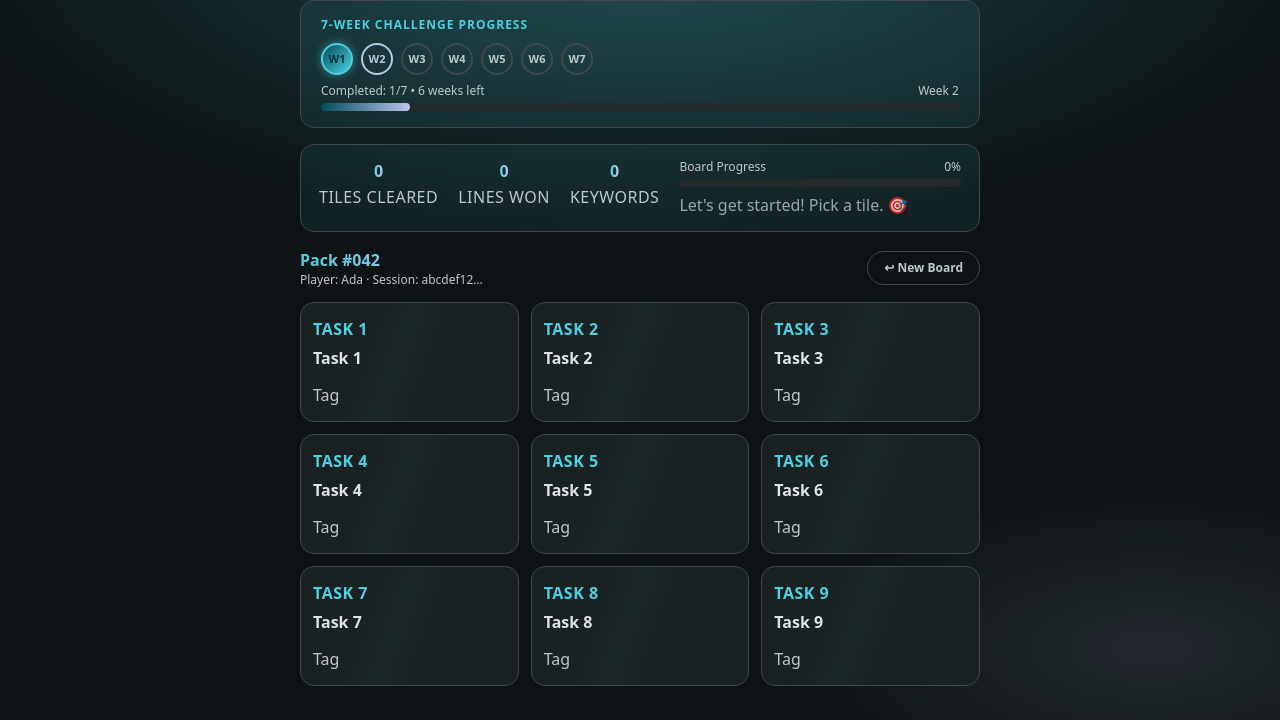
Scenario: BoardPanel › keeps the current board and shows an error when reroll fails
This screenshot has width=1280, height=720.
Click the button "↩ New Board": [924, 268] box [867, 251, 980, 285]
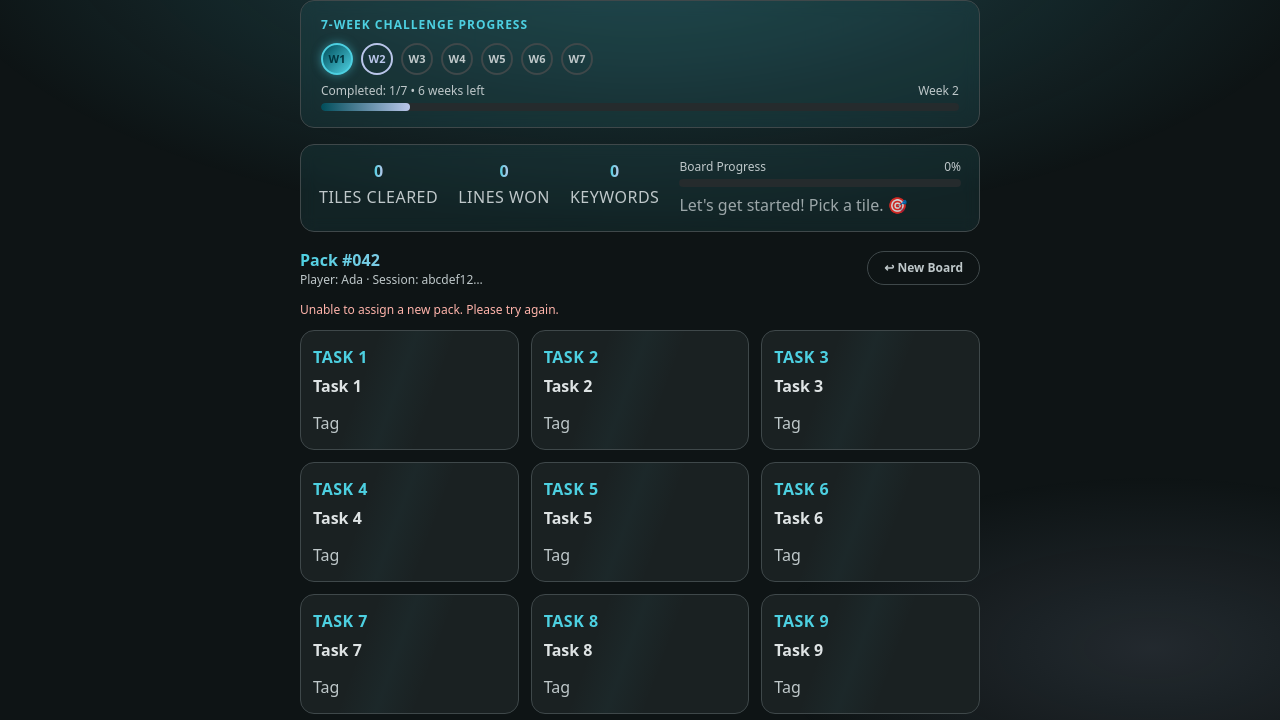
Now the text "Unable to assign a new pack" is shown, box [300, 301, 559, 318]
